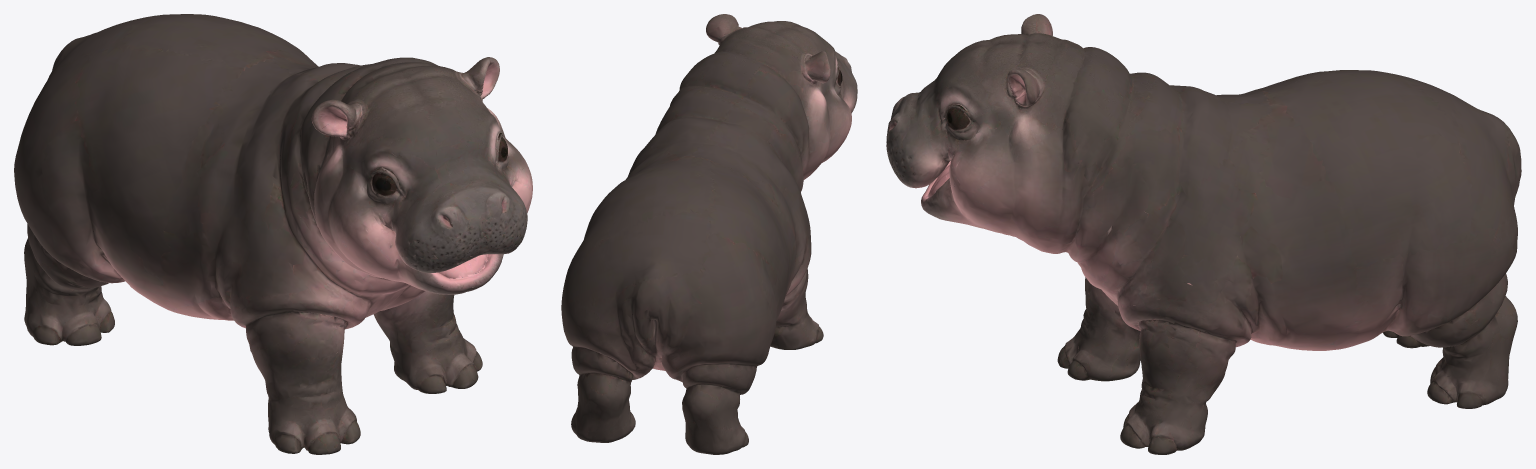
Rendered from hippo.glb.
3 renders of one model, left to right at view 1: azimuth 30°, elevation 25°; view 2: azimuth 150°, elevation 25°; view 3: azimuth 270°, elevation 25°, orthographic. The views are drawn at different scales.
Visible parts, largest first — view 1: Mesh_0; view 2: Mesh_0; view 3: Mesh_0.
Part boxes in pixels (x1,y1,x2,y2): Mesh_0: [14, 14, 532, 454]; Mesh_0: [561, 14, 857, 454]; Mesh_0: [886, 14, 1521, 454].
Size of the model in its own units: 1.35 by 1.5 by 2.43.
1 material, 1 textured.
